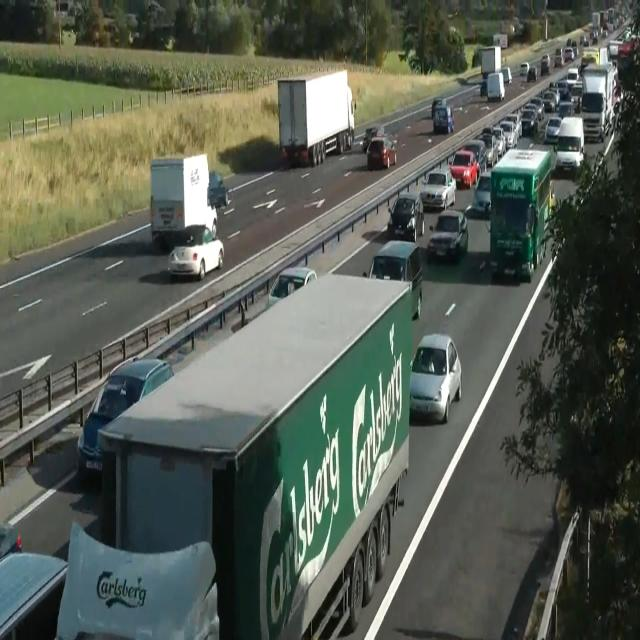bus: (76, 355, 174, 481), (0, 522, 68, 639), (409, 332, 461, 424), (167, 224, 224, 281), (267, 266, 317, 311), (426, 210, 468, 263), (387, 192, 424, 242), (419, 168, 456, 211), (606, 28, 640, 62), (367, 136, 397, 170), (472, 172, 492, 217), (0, 522, 22, 562), (463, 140, 487, 175), (208, 171, 230, 209), (360, 125, 386, 152), (478, 132, 498, 167), (519, 107, 538, 136), (544, 116, 562, 144), (205, 203, 217, 239), (519, 61, 537, 82), (499, 66, 512, 86), (511, 16, 524, 36), (431, 98, 443, 118), (540, 53, 550, 73), (580, 35, 588, 46)
car: (54, 519, 219, 638)
jeep: (364, 239, 422, 320), (554, 116, 585, 174), (448, 148, 478, 188), (432, 104, 453, 133)
minibus: (99, 271, 412, 639), (489, 146, 555, 281), (277, 69, 355, 167), (150, 153, 218, 248), (580, 62, 619, 142), (480, 71, 504, 101), (481, 44, 501, 78), (492, 32, 508, 49)
